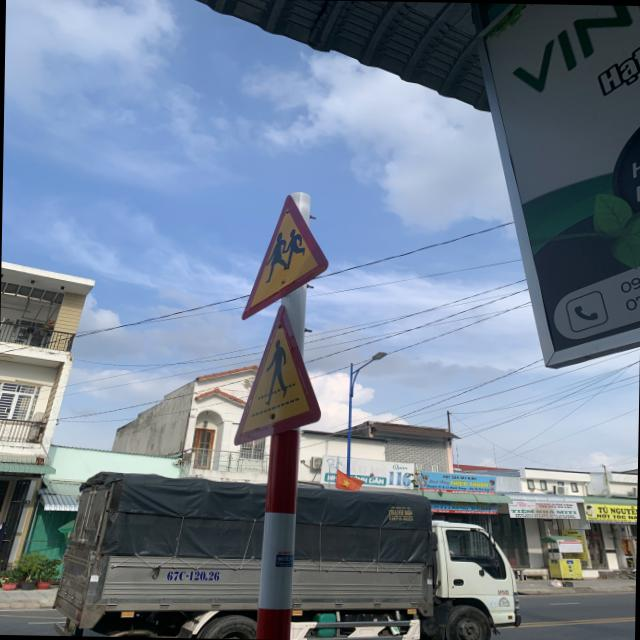Duong_Nguoi_Di_Bo_Sang_Ngang: (232, 303, 324, 448)
Vong_Xuyen: (240, 196, 330, 320)
